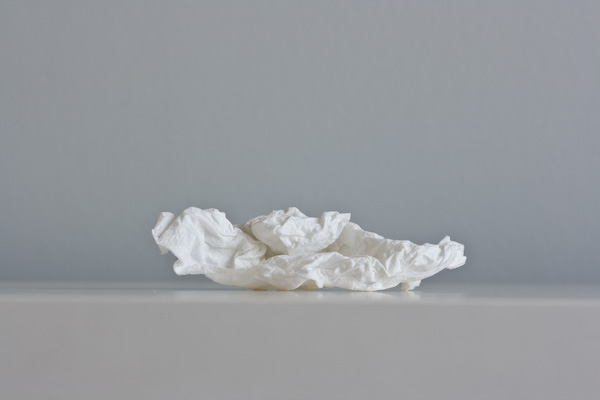Tissue: (147, 201, 470, 298)
